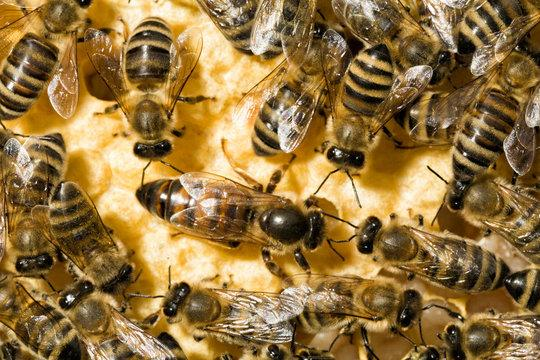Queen-Bee: (136, 168, 324, 276)
worker-bee: (0, 140, 290, 329), (85, 17, 209, 159), (446, 39, 539, 209), (322, 30, 431, 172), (284, 273, 422, 358), (356, 216, 509, 292), (233, 30, 324, 156), (0, 0, 92, 120), (58, 279, 181, 359), (48, 181, 133, 294), (160, 282, 303, 349), (0, 133, 65, 277), (0, 273, 81, 359)
